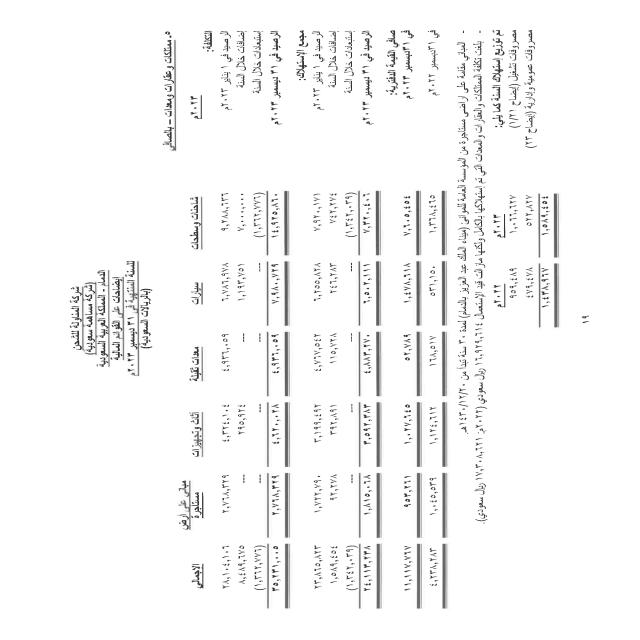notes: (109, 274, 126, 364)
table: (161, 193, 456, 622), (485, 198, 577, 323)
